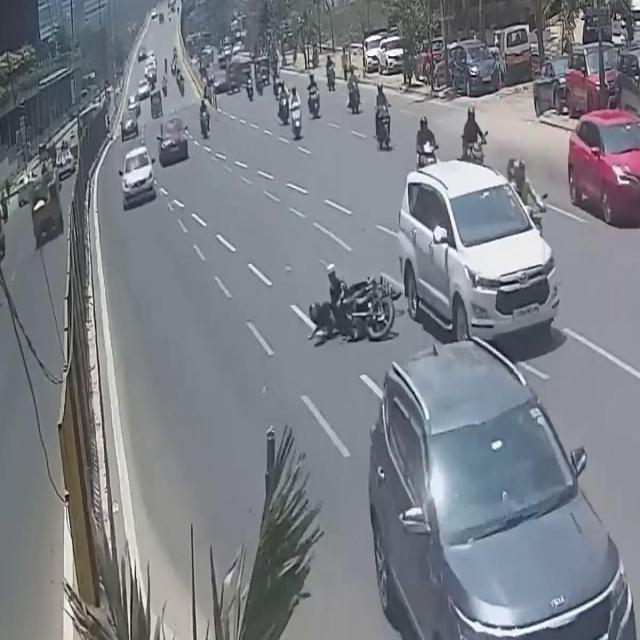accident: (304, 253, 404, 355)
non_accident: (526, 40, 640, 136), (411, 29, 497, 93), (202, 40, 270, 112), (360, 16, 409, 84), (125, 35, 163, 121)
